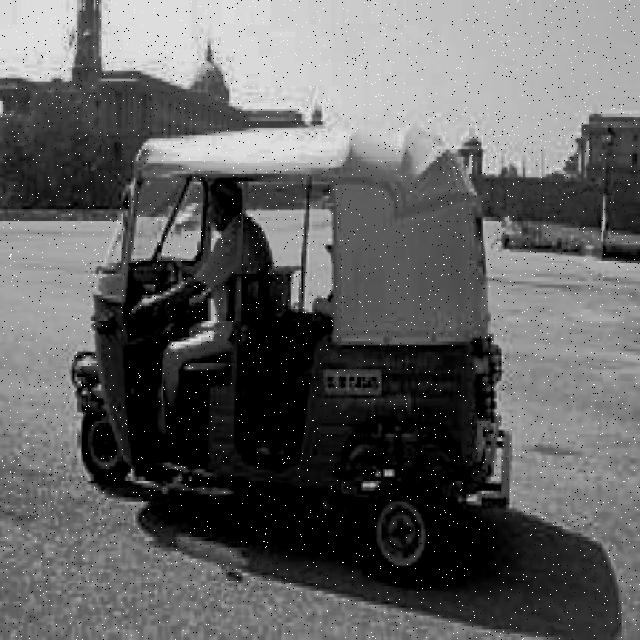Auto-Rickshaw: (65, 128, 512, 583)
